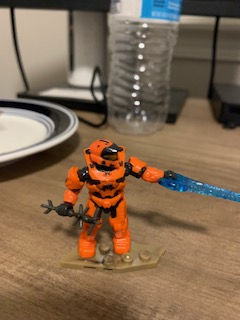spartan: (59, 137, 166, 259)
